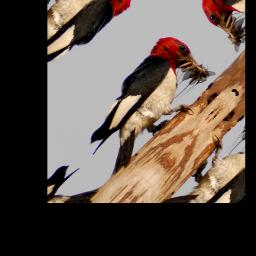Woodpecker: (68, 28, 223, 186)
